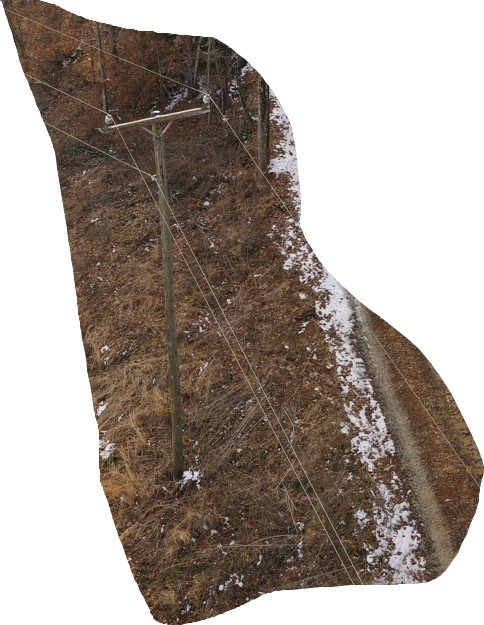pole: (86, 92, 241, 495)
